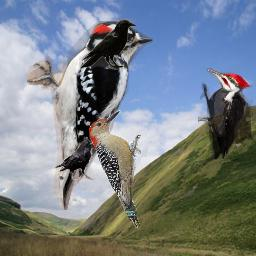Crow: (79, 18, 136, 70), (54, 138, 98, 180)
Woodpecker: (27, 21, 153, 210), (89, 109, 141, 229), (198, 68, 253, 159)
